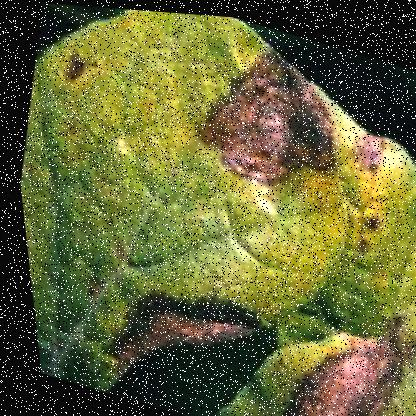AlternariaBrassicicola: (161, 10, 379, 220)
